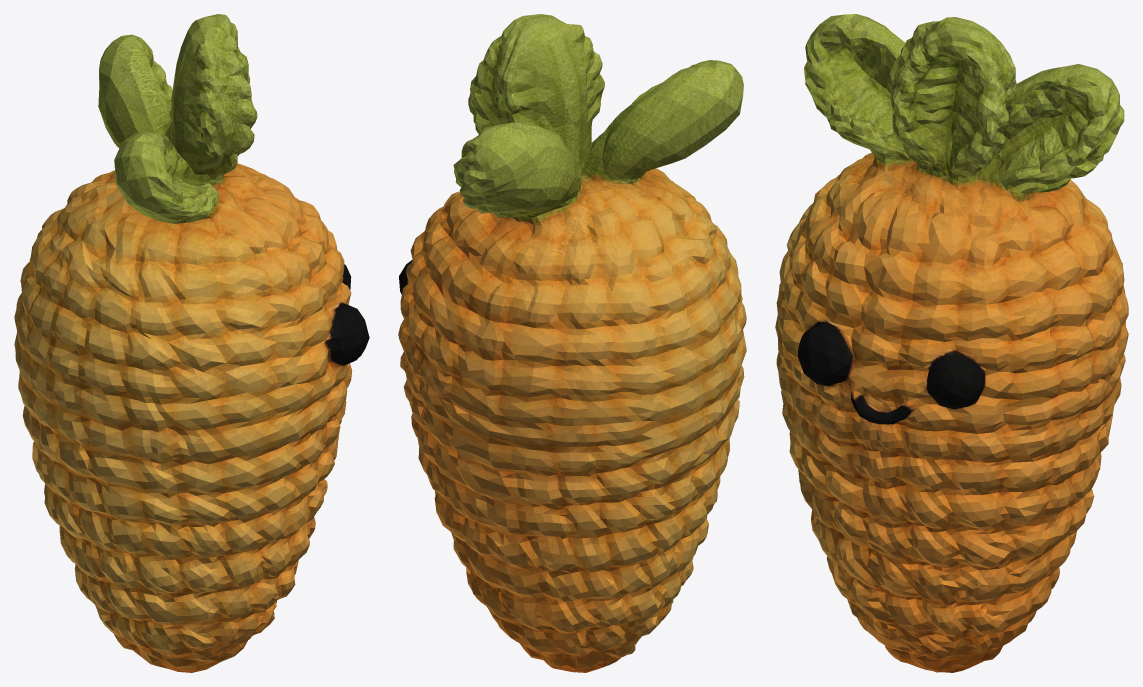
File: crochetedcarrot.glb
3 views of the same model, side by side, from view 1: azimuth 30°, elevation 25°; view 2: azimuth 150°, elevation 25°; view 3: azimuth 270°, elevation 25° (orthographic). The views are drawn at different scales.
Visible parts, largest first — view 1: tripo_node_cb96af8d-0014-47f0-ac3c-bb0ad8cf4d2f; view 2: tripo_node_cb96af8d-0014-47f0-ac3c-bb0ad8cf4d2f; view 3: tripo_node_cb96af8d-0014-47f0-ac3c-bb0ad8cf4d2f.
Boxes of the visible parts, x1,y1,x2,y2 form: tripo_node_cb96af8d-0014-47f0-ac3c-bb0ad8cf4d2f: [14, 14, 369, 672]; tripo_node_cb96af8d-0014-47f0-ac3c-bb0ad8cf4d2f: [398, 14, 746, 672]; tripo_node_cb96af8d-0014-47f0-ac3c-bb0ad8cf4d2f: [775, 14, 1128, 672].
Bounding box in the file's own units: 0.5186 × 1 × 0.4834.
1 material, 1 textured.
